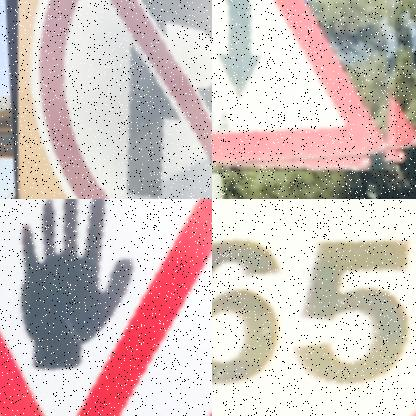No Parking: (18, 0, 212, 199)
Speed Limit -65 kmph-: (212, 199, 416, 416)
Stop: (0, 199, 212, 416), (40, 199, 151, 362)
U-Turn: (212, 0, 394, 163)
